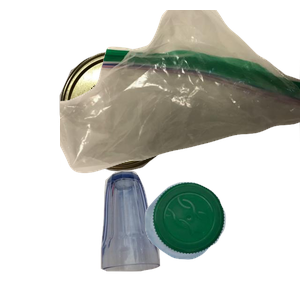glass: (98, 168, 251, 300)
metal: (57, 47, 227, 211)
plastic: (142, 179, 300, 300)
trash: (60, 10, 300, 176)
